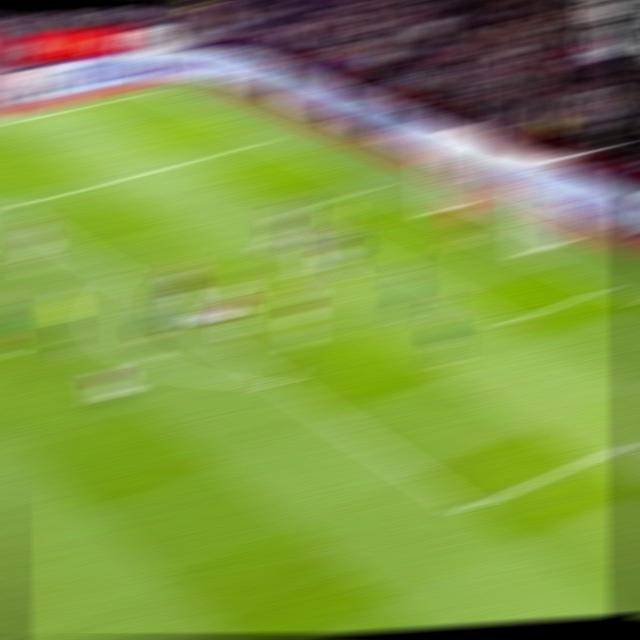bigarea_bottom_inner: (448, 490, 494, 527)
bigarea_top_inner: (0, 200, 24, 214)
bigarea_top_outter: (251, 134, 278, 147)
bottom_arc_area_intersection: (262, 373, 296, 393)
corner: (139, 88, 169, 95)
smallarea_bottom_inner: (493, 308, 528, 335)
smallarea_bottom_outter: (585, 276, 619, 300)
smallarea_top_inner: (277, 207, 305, 219)
smallarea_top_outter: (354, 179, 386, 197)
top_arc_area_intersection: (104, 269, 132, 283)
